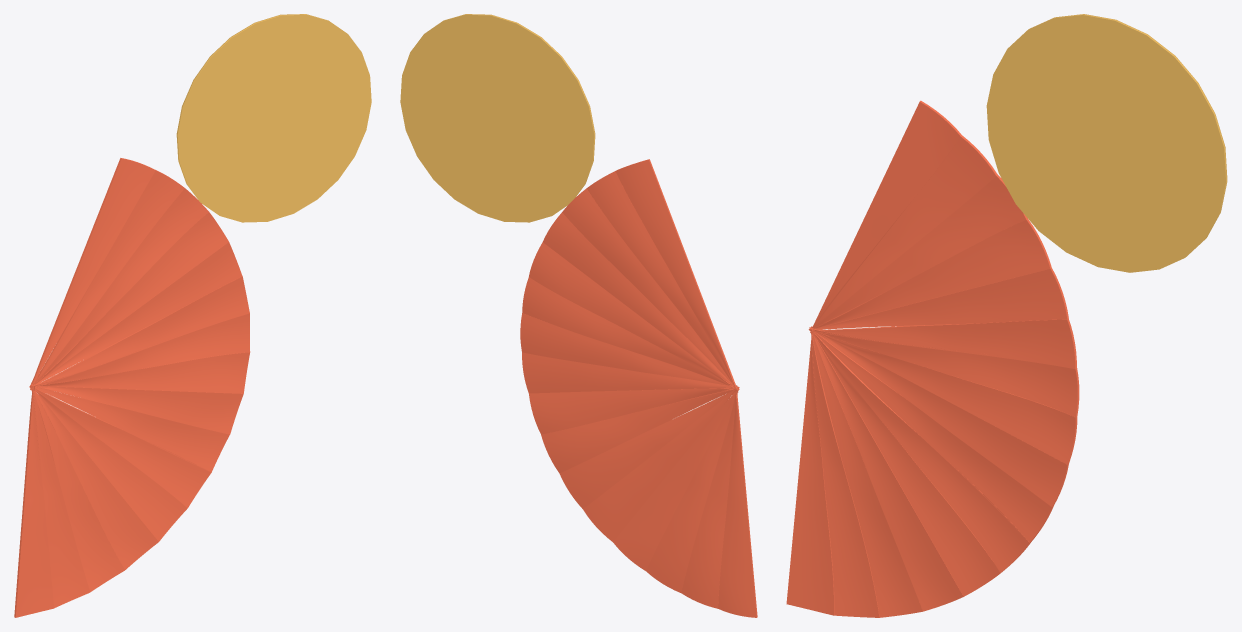
3 renders of one model, left to right at view 1: azimuth 30°, elevation 25°; view 2: azimuth 150°, elevation 25°; view 3: azimuth 330°, elevation 25°, orthographic. The views are drawn at different scales.
Visible parts, largest first — view 1: 未命名.016, 未命名.015, 未命名, 未命名.012, 未命名.008, 未命名.010, 未命名.007, 未命名.014, 未命名.003, 未命名.011, 未命名.004, 未命名.006 (+5 smaller); view 2: 未命名.016, 未命名.015, 未命名, 未命名.011, 未命名.007, 未命名.004, 未命名.012, 未命名.008, 未命名.003, 未命名.002, 未命名.006, 未命名.013 (+5 smaller); view 3: 未命名.016, 未命名.015, 未命名.012, 未命名.004, 未命名.008, 未命名, 未命名.011, 未命名.010, 未命名.003, 未命名.007, 未命名.014, 未命名.001 (+5 smaller).
Boxes of the visible parts, x1,y1,x2,y2 form: 未命名.016: (176,14,371,222); 未命名.015: (31,158,155,384); 未命名: (14,385,54,617); 未命名.012: (30,212,228,385); 未命名.008: (31,352,249,393); 未命名.010: (32,276,249,387); 未命名.007: (31,386,243,434); 未命名.014: (33,170,184,388); 未命名.003: (29,386,158,569); 未命名.011: (31,242,242,386); 未命名.004: (30,387,187,541); 未命名.006: (35,387,229,472); 未命名.016: (400,14,595,222); 未命名.015: (615,159,736,389); 未命名: (718,385,757,617); 未命名.011: (529,242,738,388); 未命名.007: (529,387,739,434); 未命名.004: (583,387,738,541); 未命名.012: (543,212,737,388); 未命名.008: (522,352,738,393); 未命名.003: (613,388,739,570); 未命名.002: (646,390,736,592); 未命名.006: (541,388,737,473); 未命名.013: (562,188,736,388); 未命名.016: (986,14,1227,272); 未命名.015: (812,100,962,332); 未命名.012: (811,218,1051,328); 未命名.004: (810,332,1000,596); 未命名.008: (809,326,1077,464); 未命名: (786,329,834,615); 未命名.011: (809,268,1068,329); 未命名.010: (810,318,1076,369); 未命名.003: (813,335,963,611); 未命名.007: (809,329,1068,506); 未命名.014: (811,135,997,332); 未命名.001: (811,331,879,617).
Size of the model in its own units: 4.65 by 6.72 by 0.0953.
